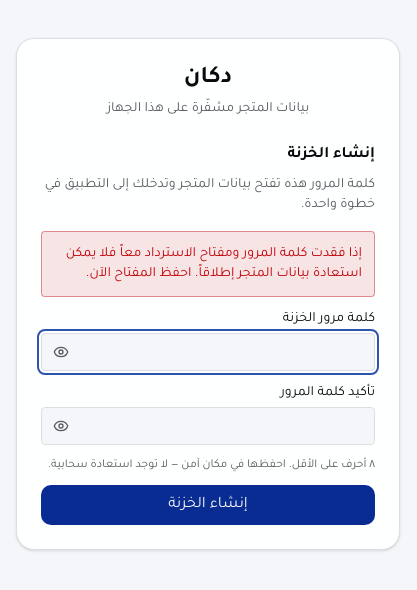
Test: vault gate takes over native validation (issue #109) › setup: noValidate, and an empty passphrase shows Arabic without a request
This screenshot has width=417, height=590.
Step 1. Click the button "إنشاء الخزنة" → (208, 505), box left=41, top=485, right=375, bottom=525
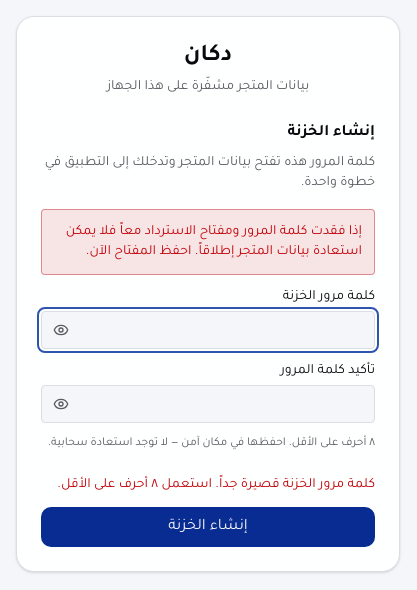
Expected: the message with test id "vault-error" reads "كلمة مرور الخزنة قصيرة جداً. استعمل ٨ أحرف على الأقل.", left=57, top=478, right=375, bottom=492
